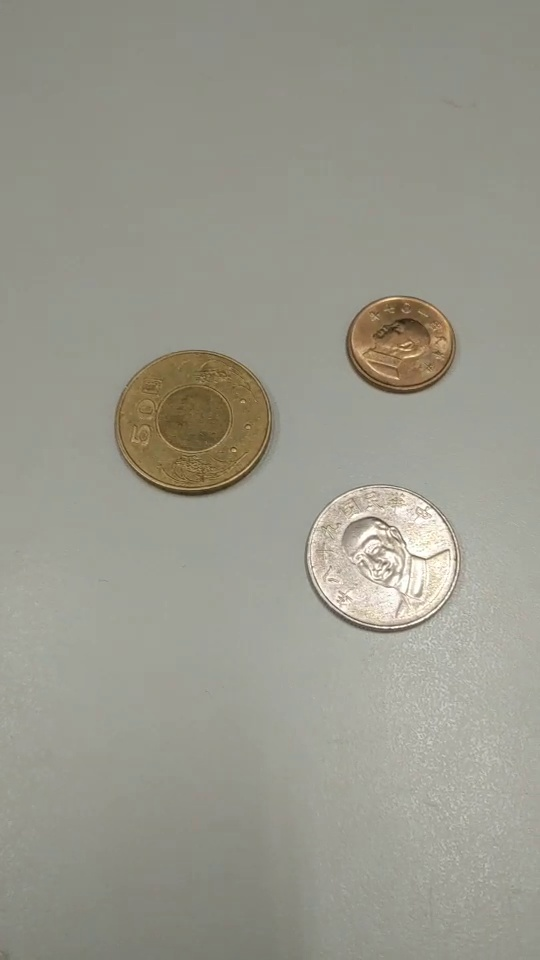NT$ 1: (346, 293, 458, 393)
NT$ 10: (305, 483, 463, 635)
NT$ 50: (113, 348, 272, 496)
